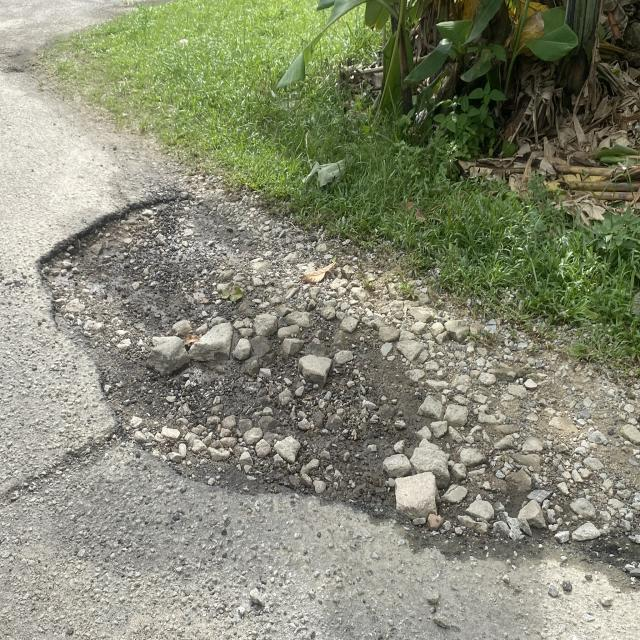pothole: (0, 128, 436, 520)
